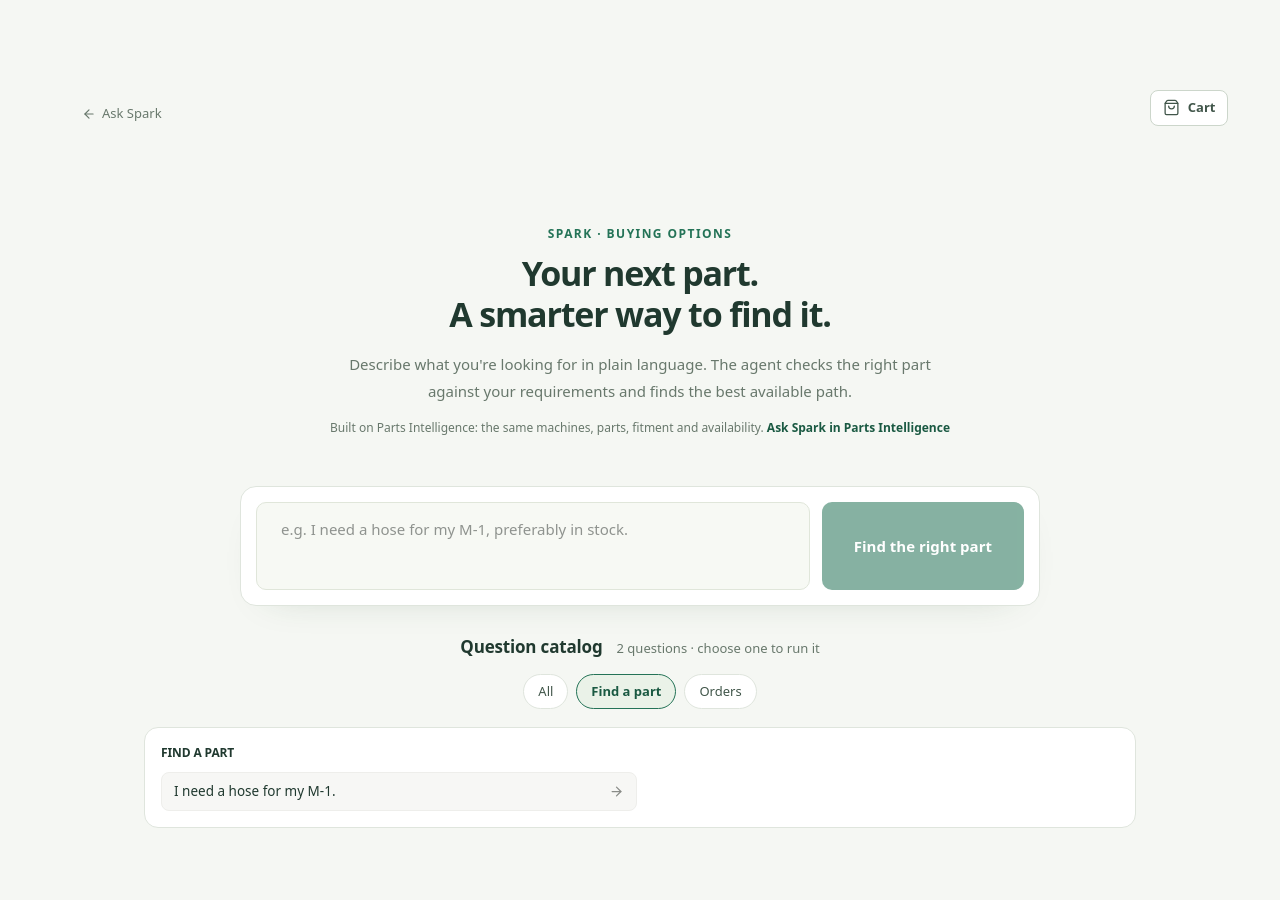
Test: agentic shopping › starts as a request to an agent, with the question catalog from the API, not a search box
The image size is (1280, 900).
Expected: the heading "Your next part. A smarter way to find it." is shown, top-left (449, 250), bottom-right (831, 337)
Expected: the text "checks the right part against your requirements" is shown, top-left (349, 354), bottom-right (931, 400)
Click the button "Orders": (721, 691) top-left (684, 674), bottom-right (757, 709)
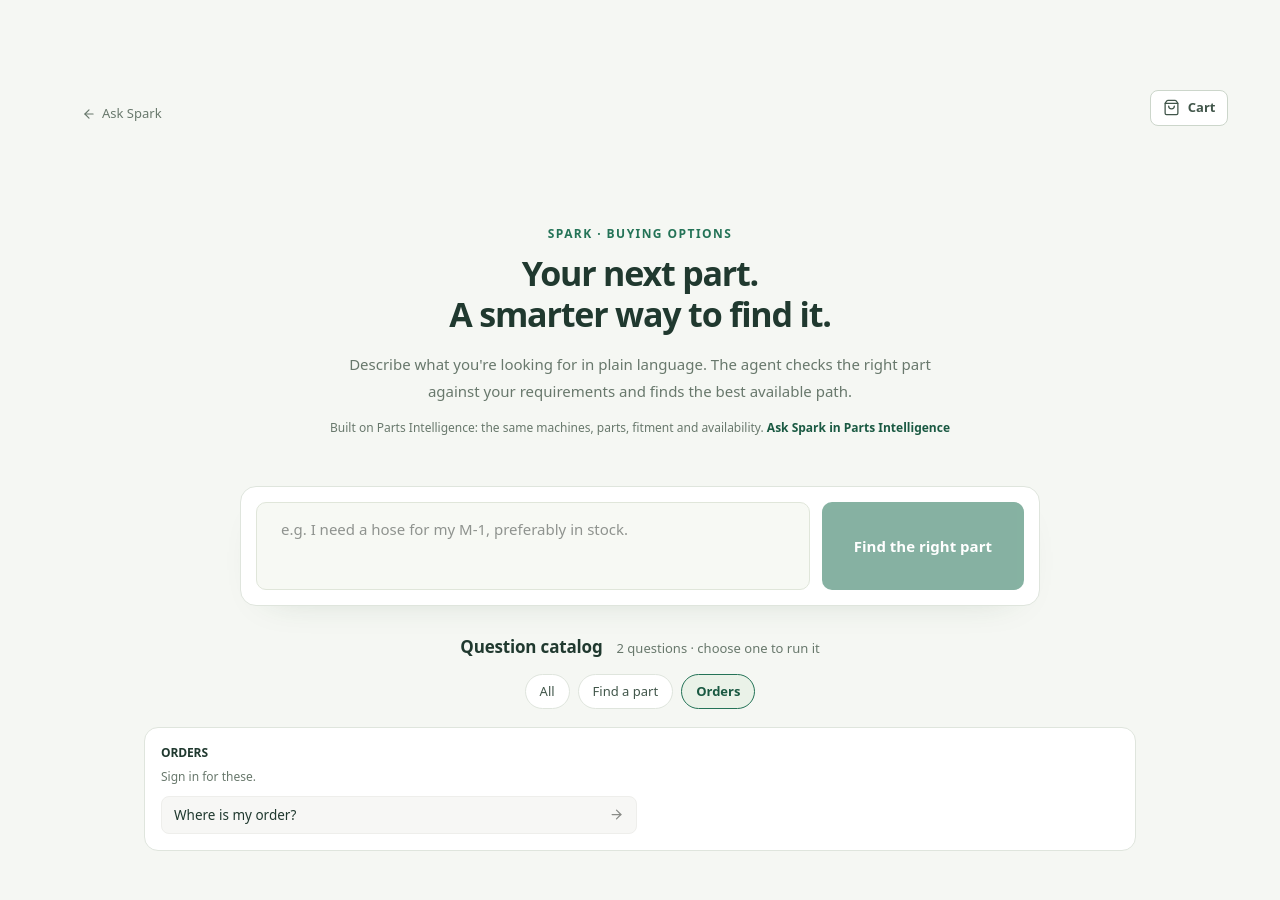
Result: the text "Sign in for these." is shown at top-left (161, 768), bottom-right (256, 785)
